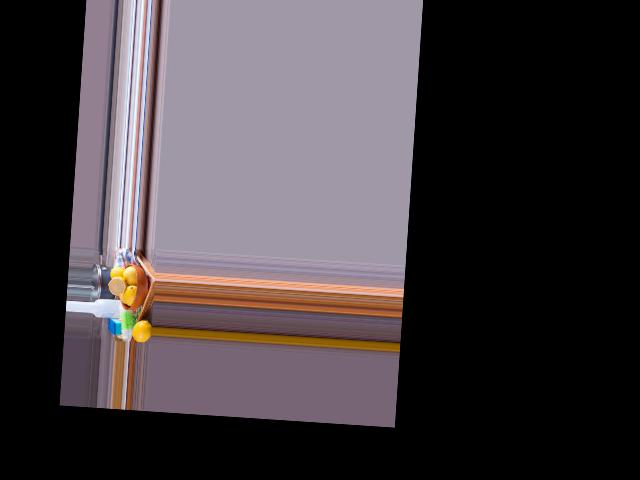lemon: (132, 318, 152, 342)
